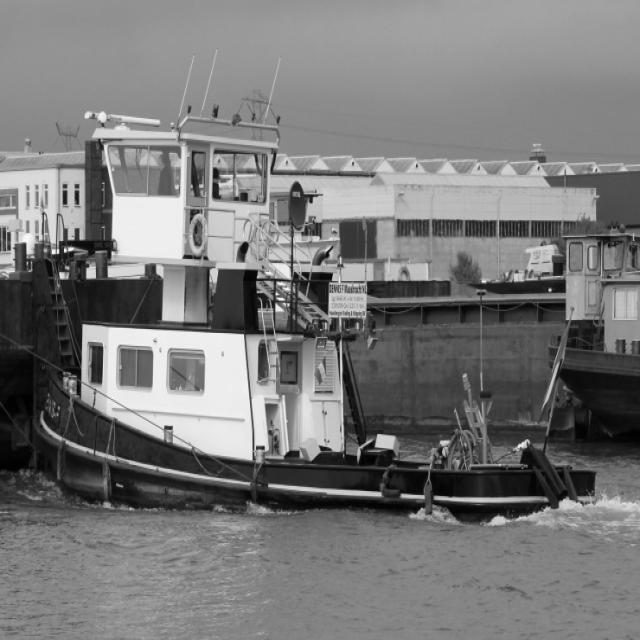tugboat: (28, 102, 601, 531)
